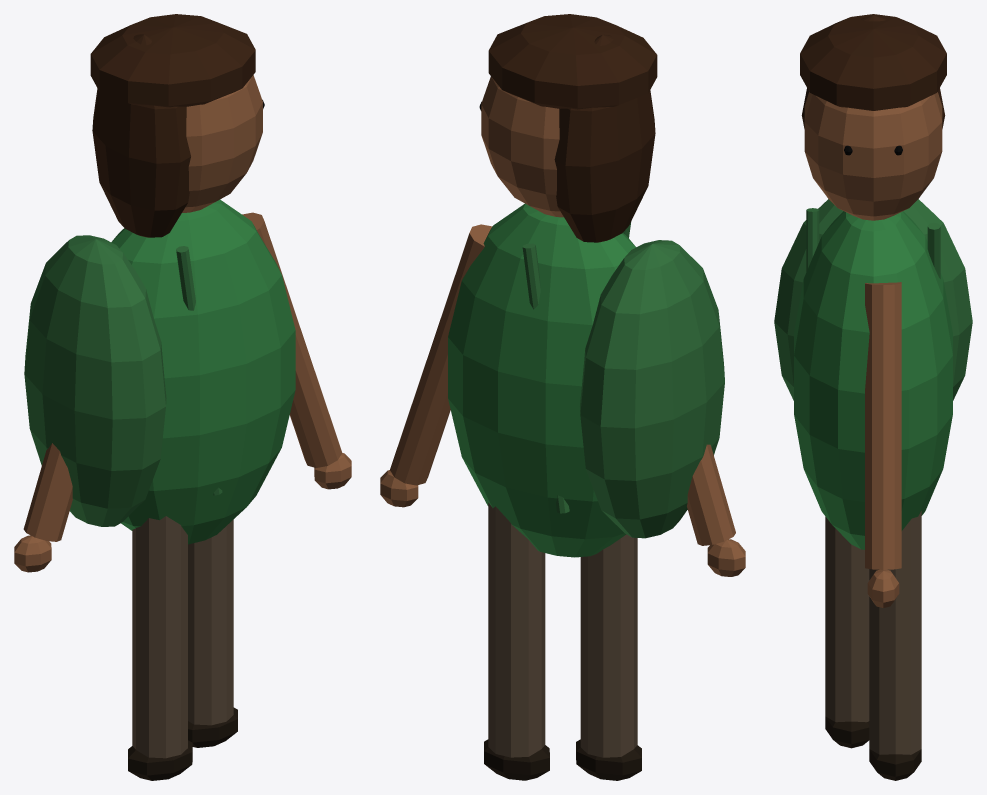
File: backpacker_woman.obj
3 views of the same model, side by side, from view 1: azimuth 30°, elevation 25°; view 2: azimuth 150°, elevation 25°; view 3: azimuth 270°, elevation 25° (orthographic). The views are drawn at different scales.
Visible parts, largest first — view 1: woman_torso, woman_backpack, woman_leg_-0.07, woman_hair, woman_hair_back, woman_leg_0.07, woman_head, woman_arm_1, woman_arm_-1, woman_boot_-0.07, woman_hand_-1, woman_boot_0.07 (+2 smaller); view 2: woman_torso, woman_backpack, woman_leg_0.07, woman_hair, woman_leg_-0.07, woman_hair_back, woman_head, woman_arm_1, woman_arm_-1, woman_boot_-0.07, woman_boot_0.07, woman_hand_-1 (+2 smaller); view 3: woman_torso, woman_head, woman_hair, woman_arm_1, woman_leg_0.07, woman_leg_-0.07, woman_backpack, woman_boot_0.07, woman_boot_-0.07, woman_hand_1, woman_left_pack_strap, woman_right_pack_strap.
Part boxes in pixels (<box>): woman_torso: <box>111,199,295,544</box>; woman_backpack: <box>24,235,166,526</box>; woman_leg_-0.07: <box>132,516,187,758</box>; woman_hair: <box>90,14,255,107</box>; woman_hair_back: <box>92,34,190,237</box>; woman_leg_0.07: <box>188,519,233,725</box>; woman_head: <box>182,75,262,212</box>; woman_arm_1: <box>242,212,342,467</box>; woman_arm_-1: <box>23,443,72,541</box>; woman_boot_-0.07: <box>128,740,192,780</box>; woman_hand_-1: <box>14,535,51,572</box>; woman_boot_0.07: <box>188,707,237,747</box>; woman_torso: <box>448,203,635,557</box>; woman_backpack: <box>580,240,724,538</box>; woman_leg_0.07: <box>488,502,545,757</box>; woman_hair: <box>488,14,657,109</box>; woman_leg_-0.07: <box>580,534,637,757</box>; woman_hair_back: <box>554,35,655,242</box>; woman_head: <box>481,76,563,217</box>; woman_arm_1: <box>390,224,492,485</box>; woman_arm_-1: <box>687,444,735,545</box>; woman_boot_-0.07: <box>576,739,641,780</box>; woman_boot_0.07: <box>484,739,549,780</box>; woman_hand_-1: <box>707,539,745,576</box>; woman_torso: <box>794,211,952,549</box>; woman_head: <box>804,92,942,220</box>; woman_hair: <box>800,14,946,110</box>; woman_arm_1: <box>865,282,901,569</box>; woman_leg_0.07: <box>869,511,921,754</box>; woman_leg_-0.07: <box>825,516,869,722</box>; woman_backpack: <box>774,199,972,400</box>; woman_boot_0.07: <box>869,749,921,780</box>; woman_boot_-0.07: <box>825,716,869,748</box>; woman_hand_1: <box>867,569,899,607</box>; woman_left_pack_strap: <box>806,208,819,271</box>; woman_right_pack_strap: <box>927,222,940,278</box>.
Size of the model in its own units: 0.7161 by 1.45 by 0.36.
